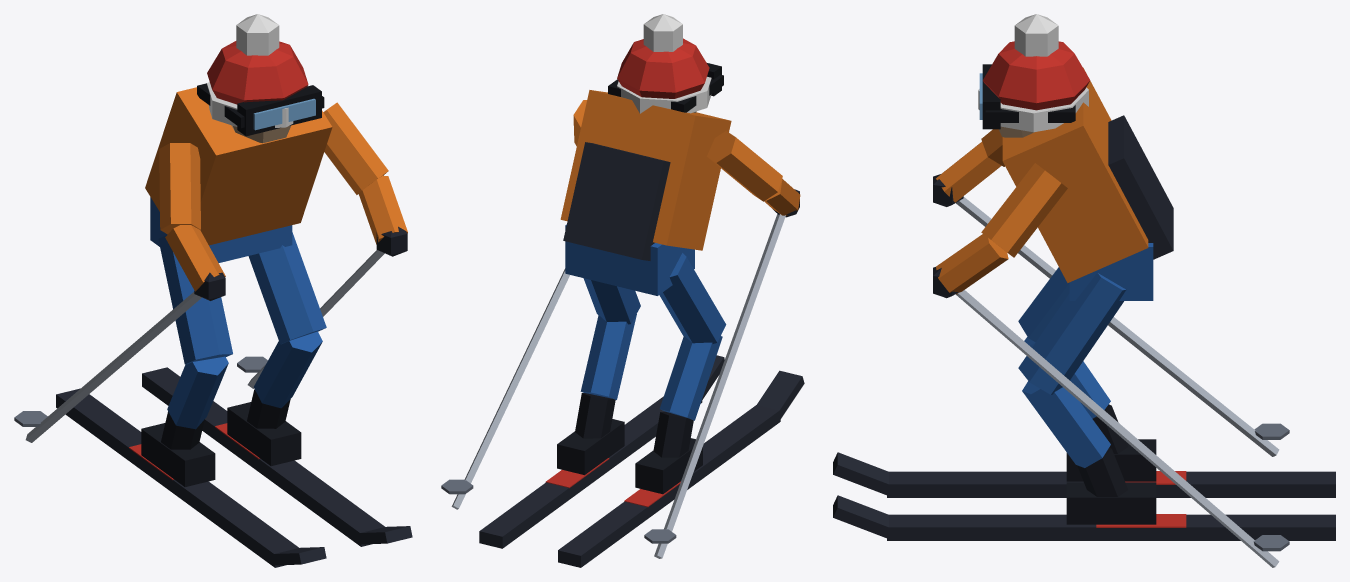
File: critter_skier.glb
3 renders of one model, left to right at view 1: azimuth 30°, elevation 25°; view 2: azimuth 150°, elevation 25°; view 3: azimuth 270°, elevation 25°, orthographic. The views are drawn at different scales.
Parts seen in each view (by area): view 1: critter_skier; view 2: critter_skier; view 3: critter_skier.
Boxes of the visible parts, x1,y1,x2,y2 form: critter_skier: (14, 14, 412, 567); critter_skier: (441, 14, 804, 567); critter_skier: (833, 14, 1335, 567).
Bounding box in the file's own units: 0.9839 × 1.84 × 1.68.
